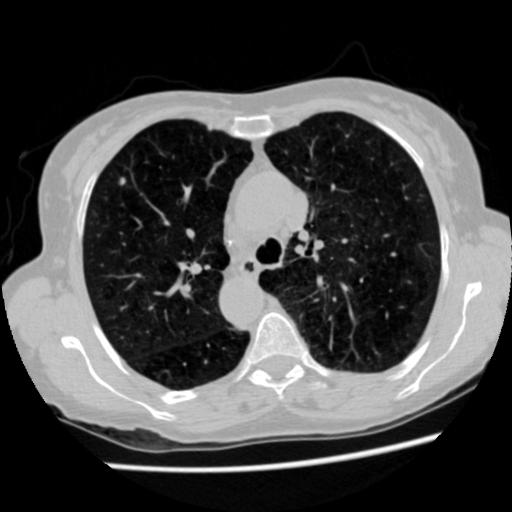nodule: (117, 174, 132, 189)
